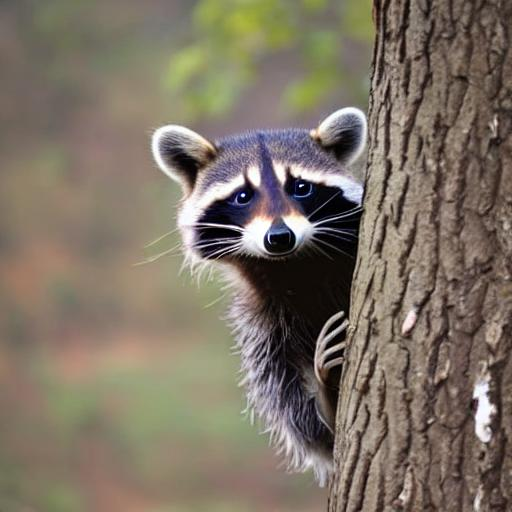raccoon: (142, 94, 369, 492)
